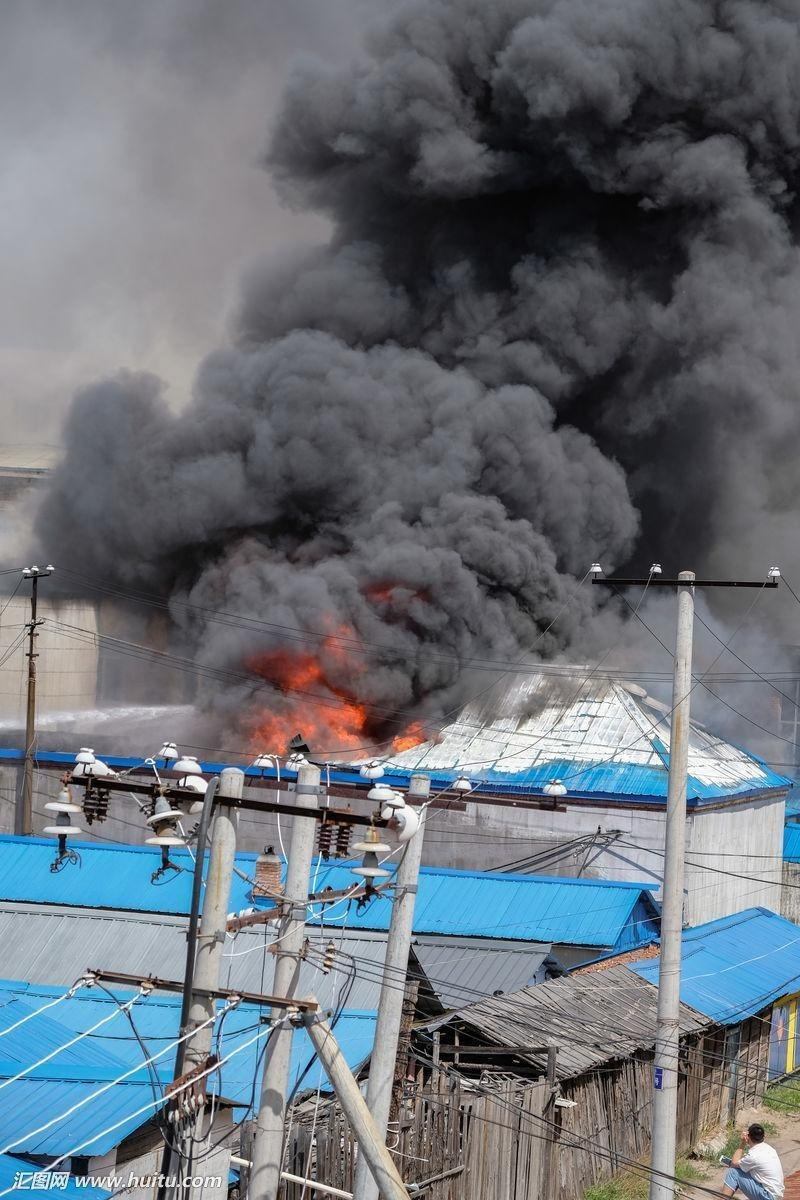fire: (240, 639, 429, 765)
